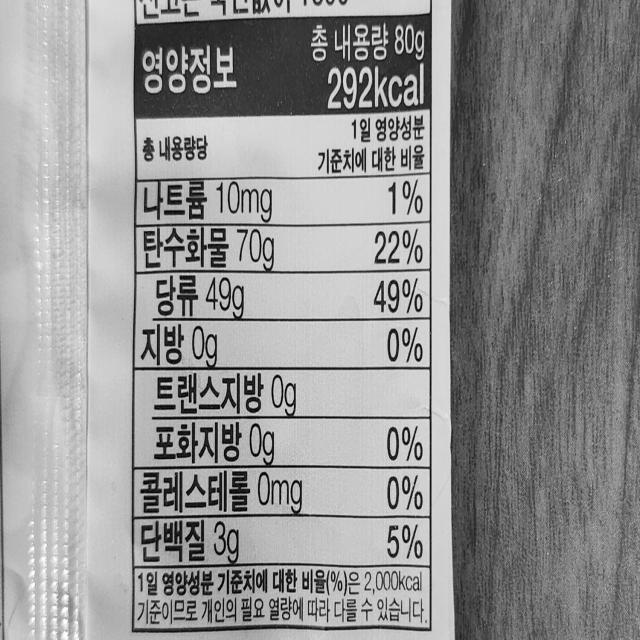Nutrition Label: (130, 10, 435, 637)
